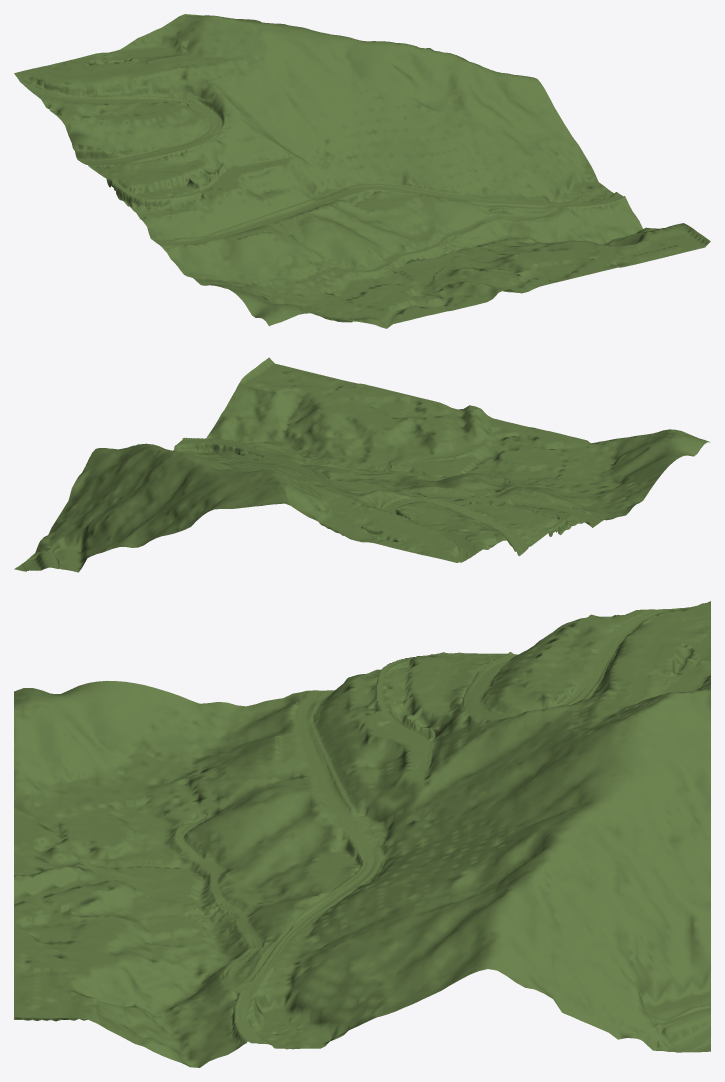
Rendered from terrain_0_1.glb.
3 renders of one model, top to bottom at view 1: azimuth 30°, elevation 25°; view 2: azimuth 150°, elevation 25°; view 3: azimuth 270°, elevation 25°, orthographic. The views are drawn at different scales.
Parts seen in each view (by area): view 1: terrain_0_1; view 2: terrain_0_1; view 3: terrain_0_1.
Boxes of the visible parts, <box> form: terrain_0_1: <box>14,14,710,328</box>; terrain_0_1: <box>14,357,710,572</box>; terrain_0_1: <box>14,601,710,1067</box>.
Bounding box in the file's own units: 600 × 194 × 600.
